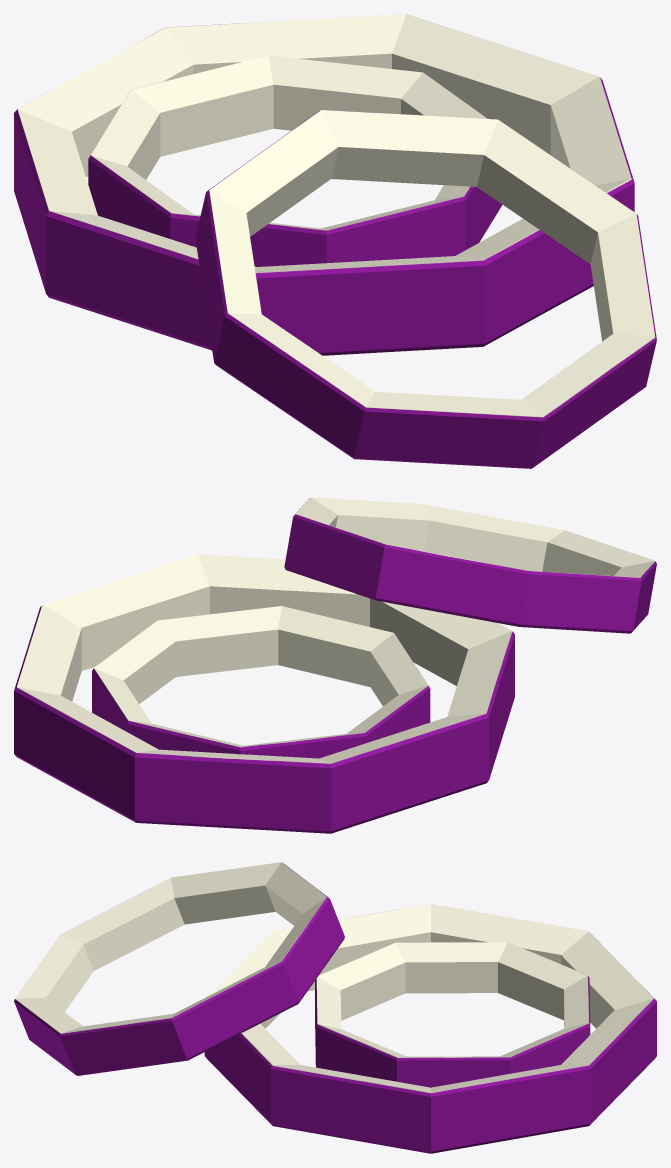
Rendered from onion_slice_3d.glb.
The picture shows the model from 3 angles, top to bottom: view 1: azimuth 30°, elevation 25°; view 2: azimuth 150°, elevation 25°; view 3: azimuth 270°, elevation 25°; orthographic projection. The views are drawn at different scales.
Visible parts, largest first — view 1: Torus, Torus.001, Torus.002; view 2: Torus, Torus.001, Torus.002; view 3: Torus, Torus.001, Torus.002.
Part boxes in pixels (x1,y1,x2,y2): Torus: (14, 14, 634, 355); Torus.001: (195, 110, 656, 468); Torus.002: (88, 55, 502, 266); Torus: (14, 554, 514, 833); Torus.001: (284, 497, 656, 633); Torus.002: (92, 606, 430, 758); Torus: (204, 904, 656, 1153); Torus.001: (14, 862, 344, 1075); Torus.002: (315, 942, 590, 1087).
Bounding box in the file's own units: 0.6439 × 0.225 × 0.9072.
3 materials, 3 textured.
